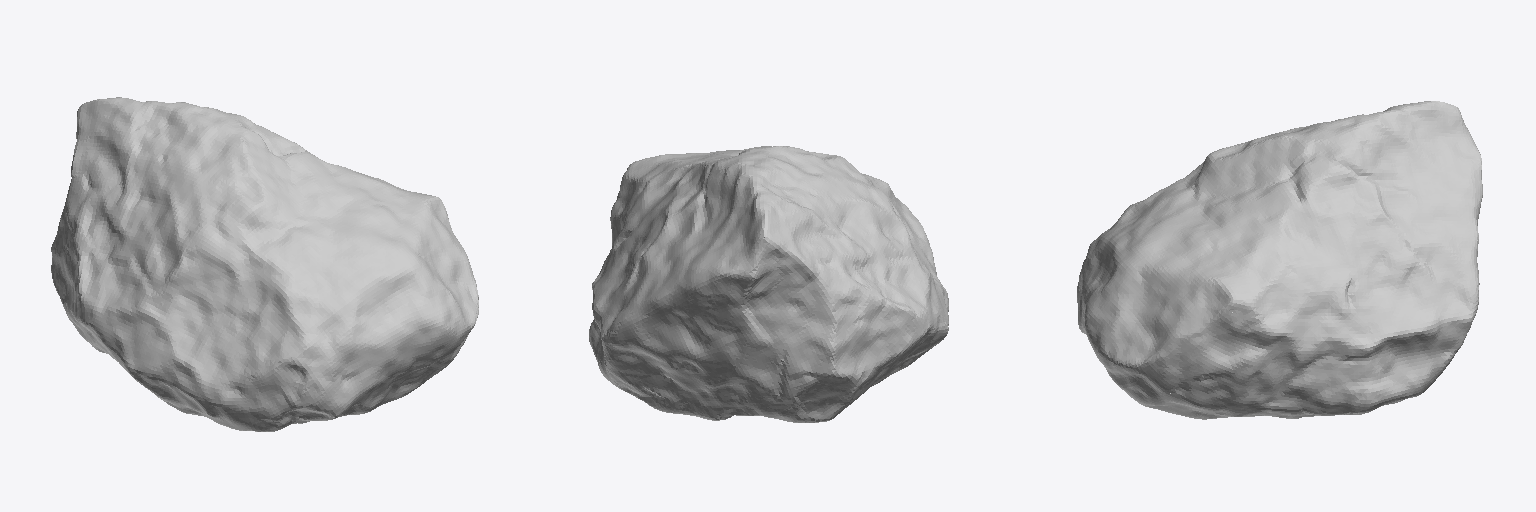
Rendered from rock 2 gb rs.obj.
The picture shows the model from 3 angles: view 1: azimuth 30°, elevation 25°; view 2: azimuth 150°, elevation 25°; view 3: azimuth 270°, elevation 25°; orthographic projection.
Bounding box in the file's own units: 1.88 × 1.35 × 2.